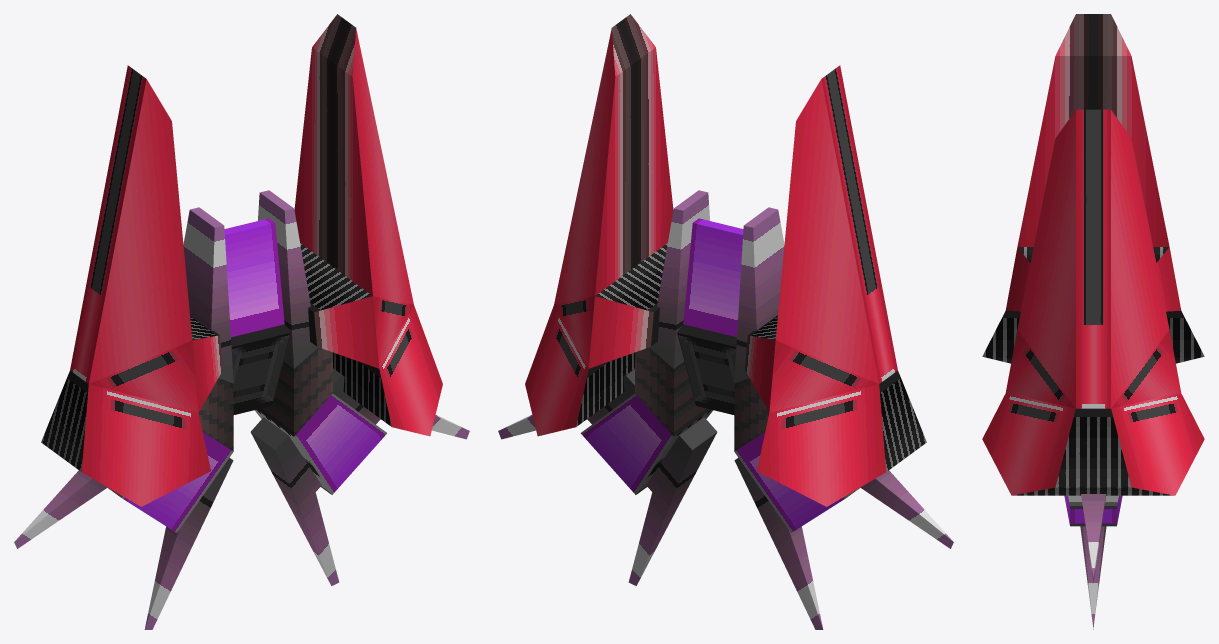
Rendered from redLaser.glb.
3 views of the same model, side by side, from view 1: azimuth 30°, elevation 25°; view 2: azimuth 150°, elevation 25°; view 3: azimuth 270°, elevation 25° (orthographic). The views are drawn at different scales.
Parts seen in each view (by area): view 1: Mesh_0836; view 2: Mesh_0836; view 3: Mesh_0836.
Boxes of the visible parts, bbox=[...] form: Mesh_0836: bbox=[14, 14, 469, 629]; Mesh_0836: bbox=[498, 14, 953, 629]; Mesh_0836: bbox=[982, 14, 1204, 629].
Bounding box in the file's own units: 6.31 × 7.43 × 2.85.
1 material, 1 textured.
